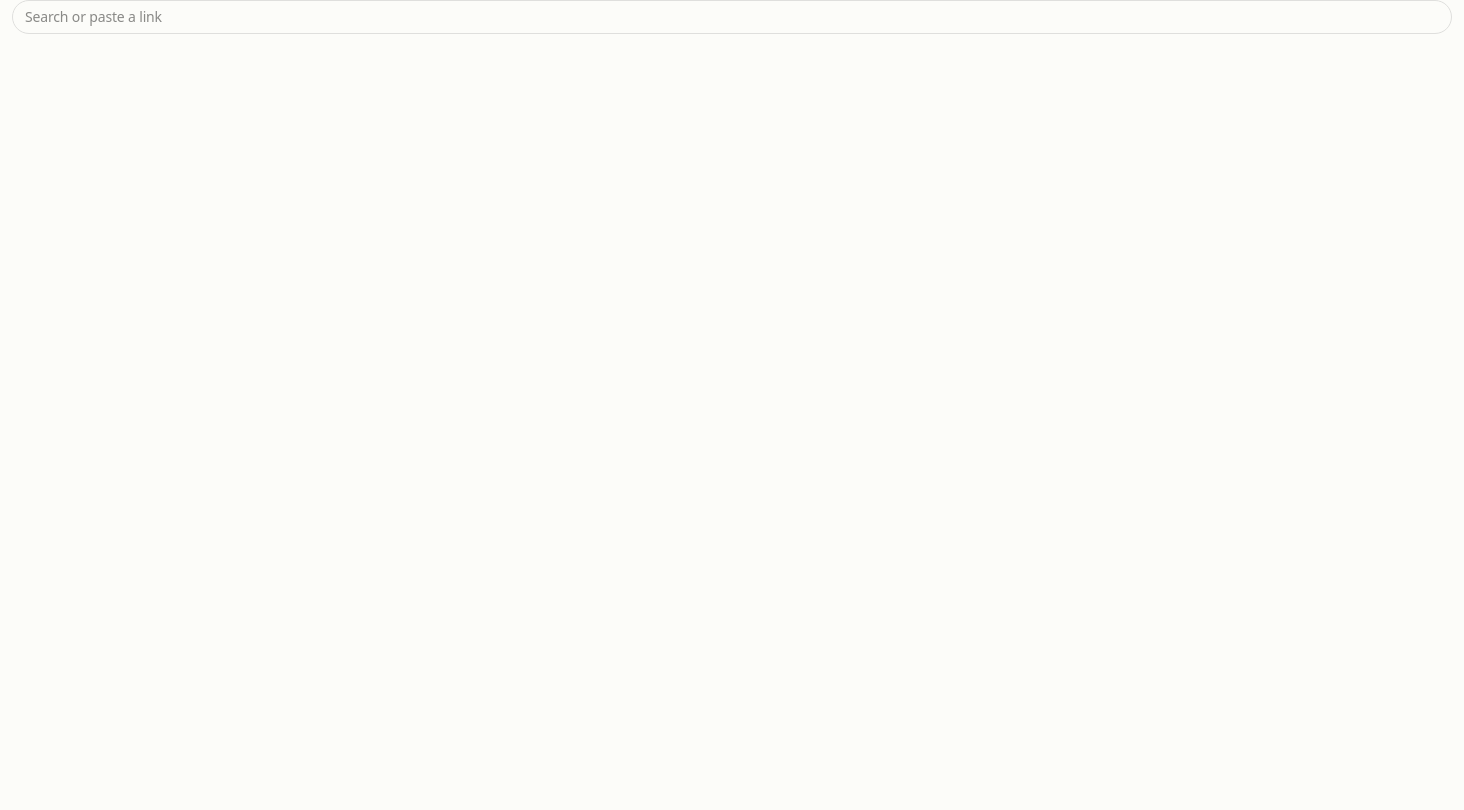
Scenario: pasting map links › does not trust an expansion that is not a Google Maps place
The image size is (1464, 810).
Click the dropdown named "Add a place": (732, 17) [12,0,1452,34]
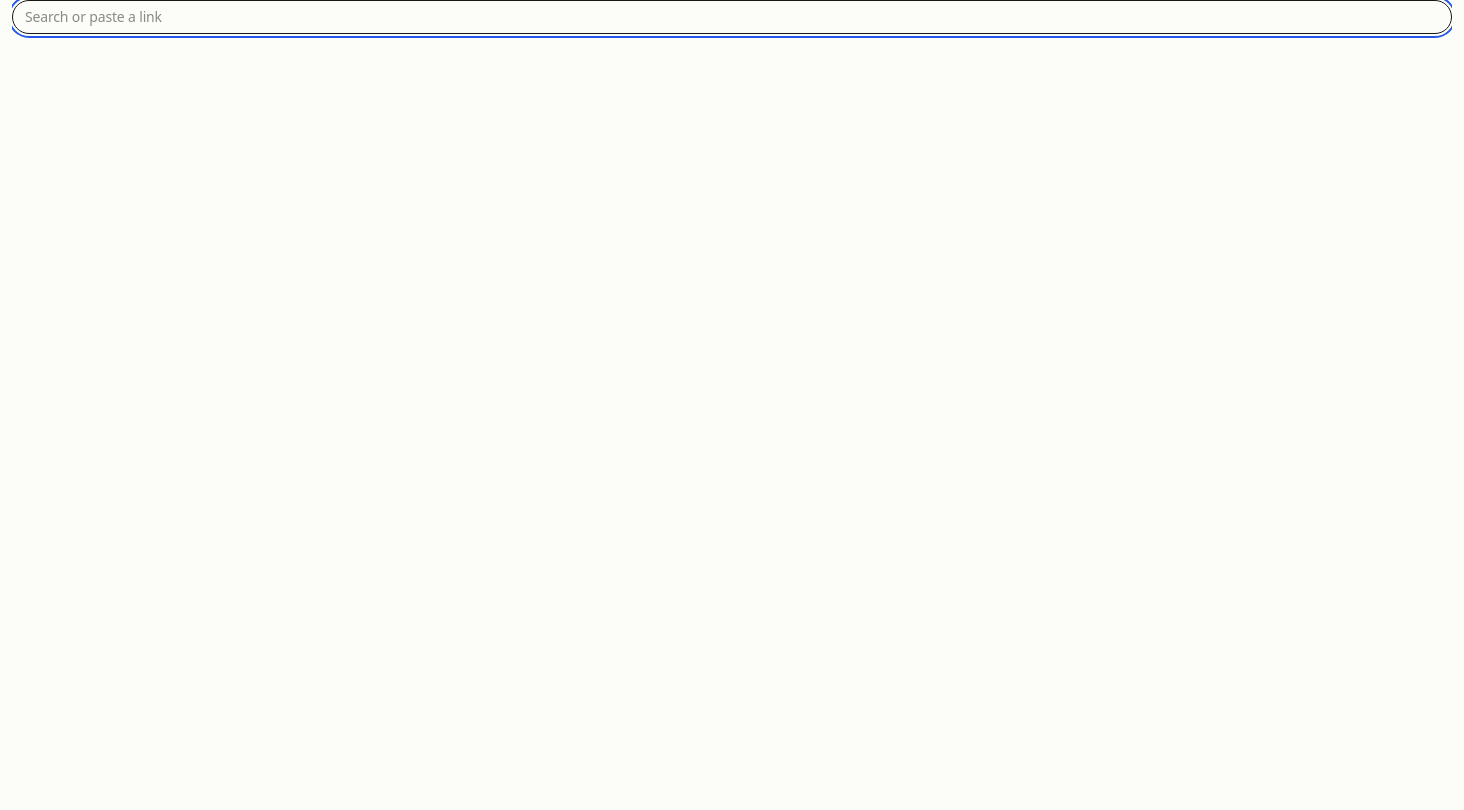
Type keys "https://maps.app.goo.gl/AbCdEf123"
(page scrolled)
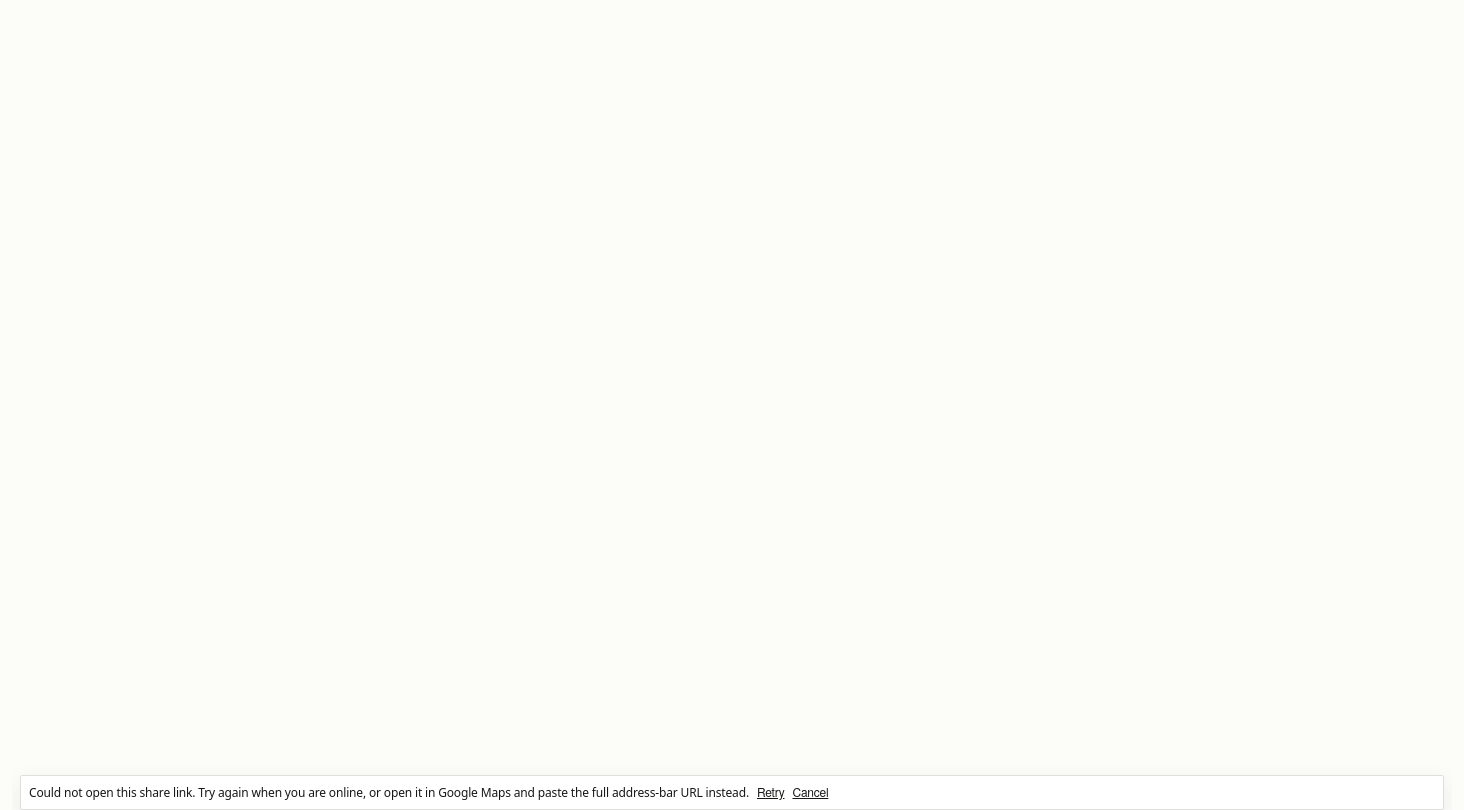
Result: the element with test id "link-expand-error" is shown at [20,775,1444,809]
